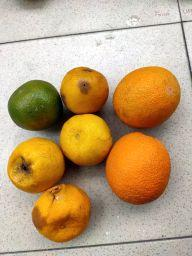orange: (104, 131, 171, 205), (112, 65, 180, 129), (30, 182, 92, 243), (6, 136, 66, 194), (7, 78, 65, 132), (60, 113, 114, 168), (60, 65, 109, 115)
